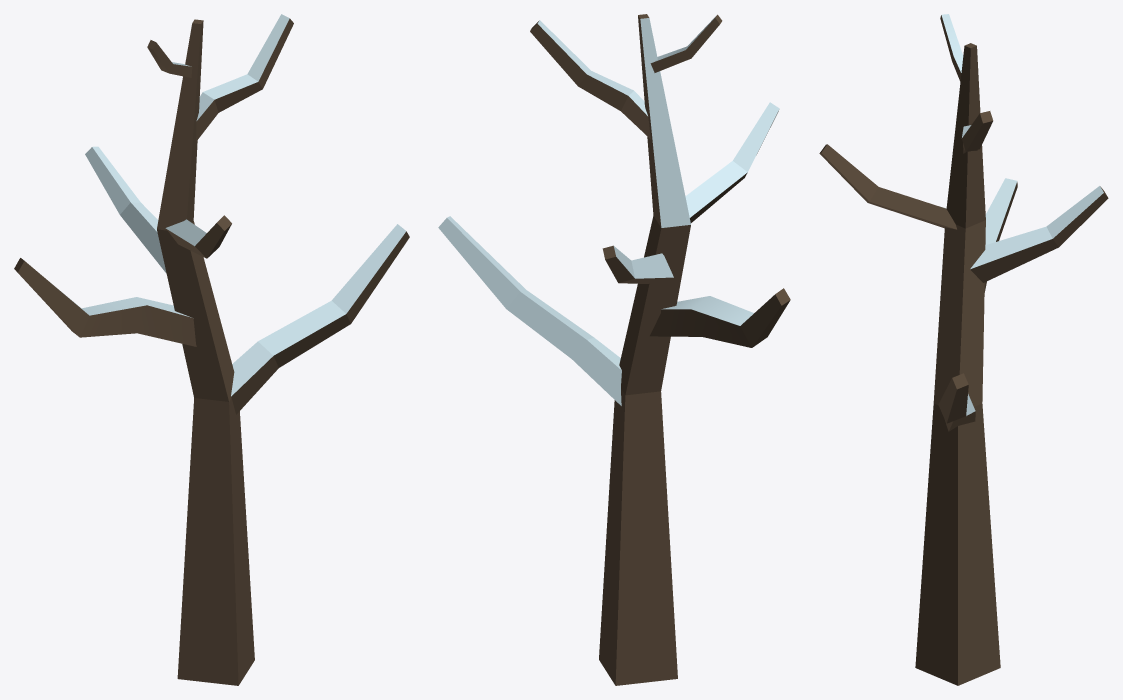
Rendered from SM_Env_Generic_Dead_Tree_01_Snow.fbx.
The picture shows the model from 3 angles, left to right: view 1: azimuth 30°, elevation 25°; view 2: azimuth 150°, elevation 25°; view 3: azimuth 270°, elevation 25°; orthographic projection. The views are drawn at different scales.
Visible parts, largest first — view 1: SM_Env_Generic_Dead_Tree_01_Snow; view 2: SM_Env_Generic_Dead_Tree_01_Snow; view 3: SM_Env_Generic_Dead_Tree_01_Snow.
Part boxes in pixels (x1,y1,x2,y2): SM_Env_Generic_Dead_Tree_01_Snow: (14,14,409,685); SM_Env_Generic_Dead_Tree_01_Snow: (438,14,790,685); SM_Env_Generic_Dead_Tree_01_Snow: (819,14,1108,685).
Size of the model in its own units: 55.59 by 94.23 by 39.75.
1 material, 1 textured.
